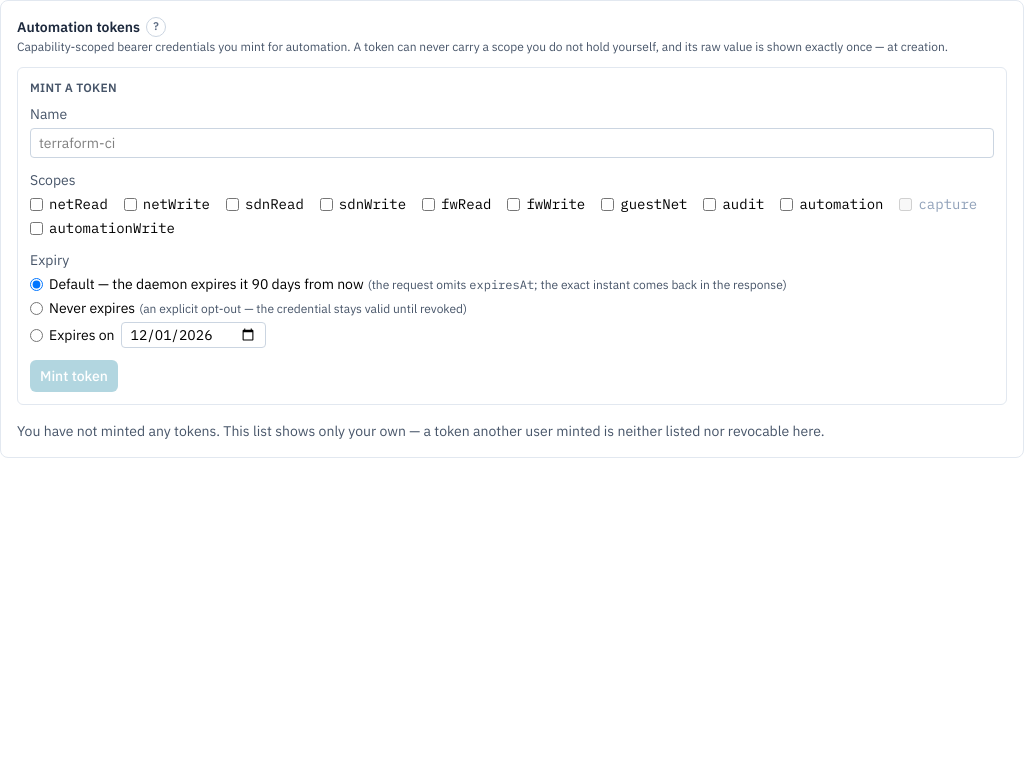
Test: refusals › renders the daemon's own message when minting is refused
Expected: the text with test id "tokens-empty" is shown, [17,422,824,440]
Type "bad" into the field with placeholder "terraform-ci".
click(512, 143); type("bad")  # box [30,128,994,158]
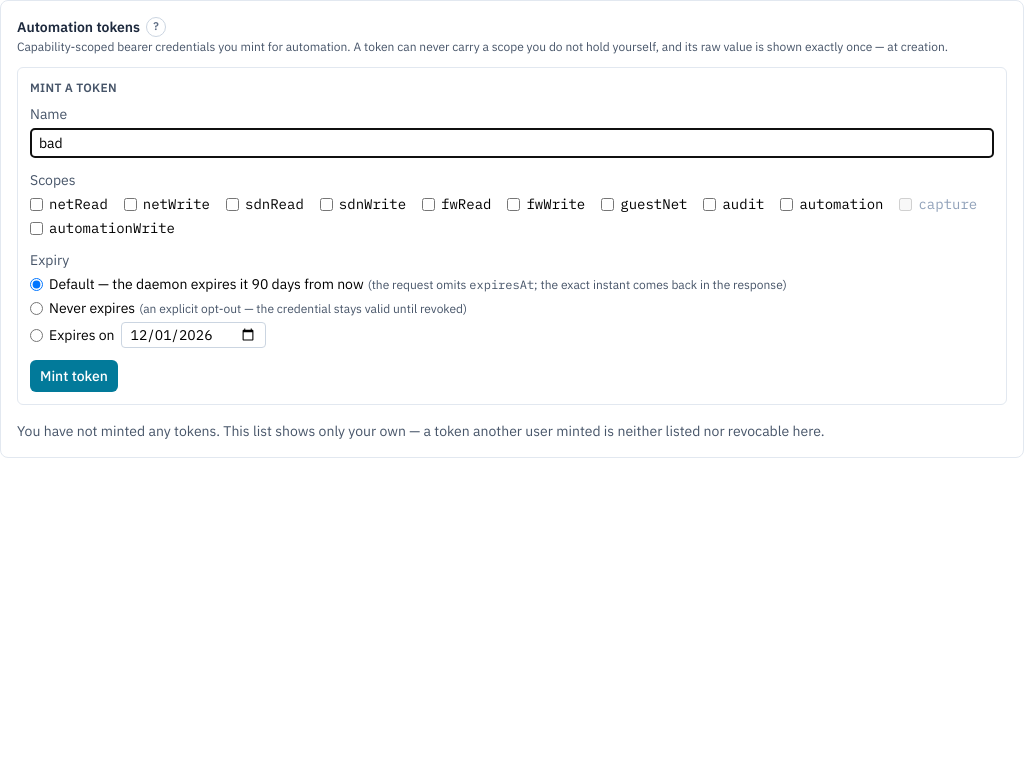
Click the button with test id "mint-token".
click(74, 376)  # box [30,360,118,392]
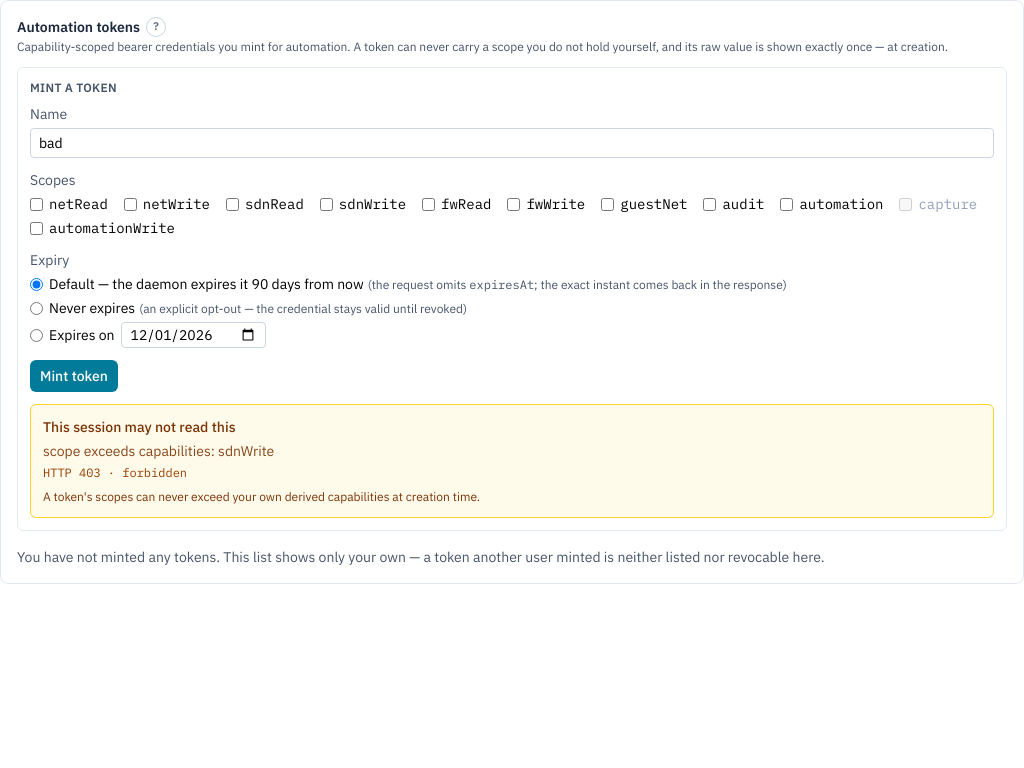
Result: the text with test id "mint-token-error-message" reads "scope exceeds capabilities: sdnWrite" at [43,442,274,460]
